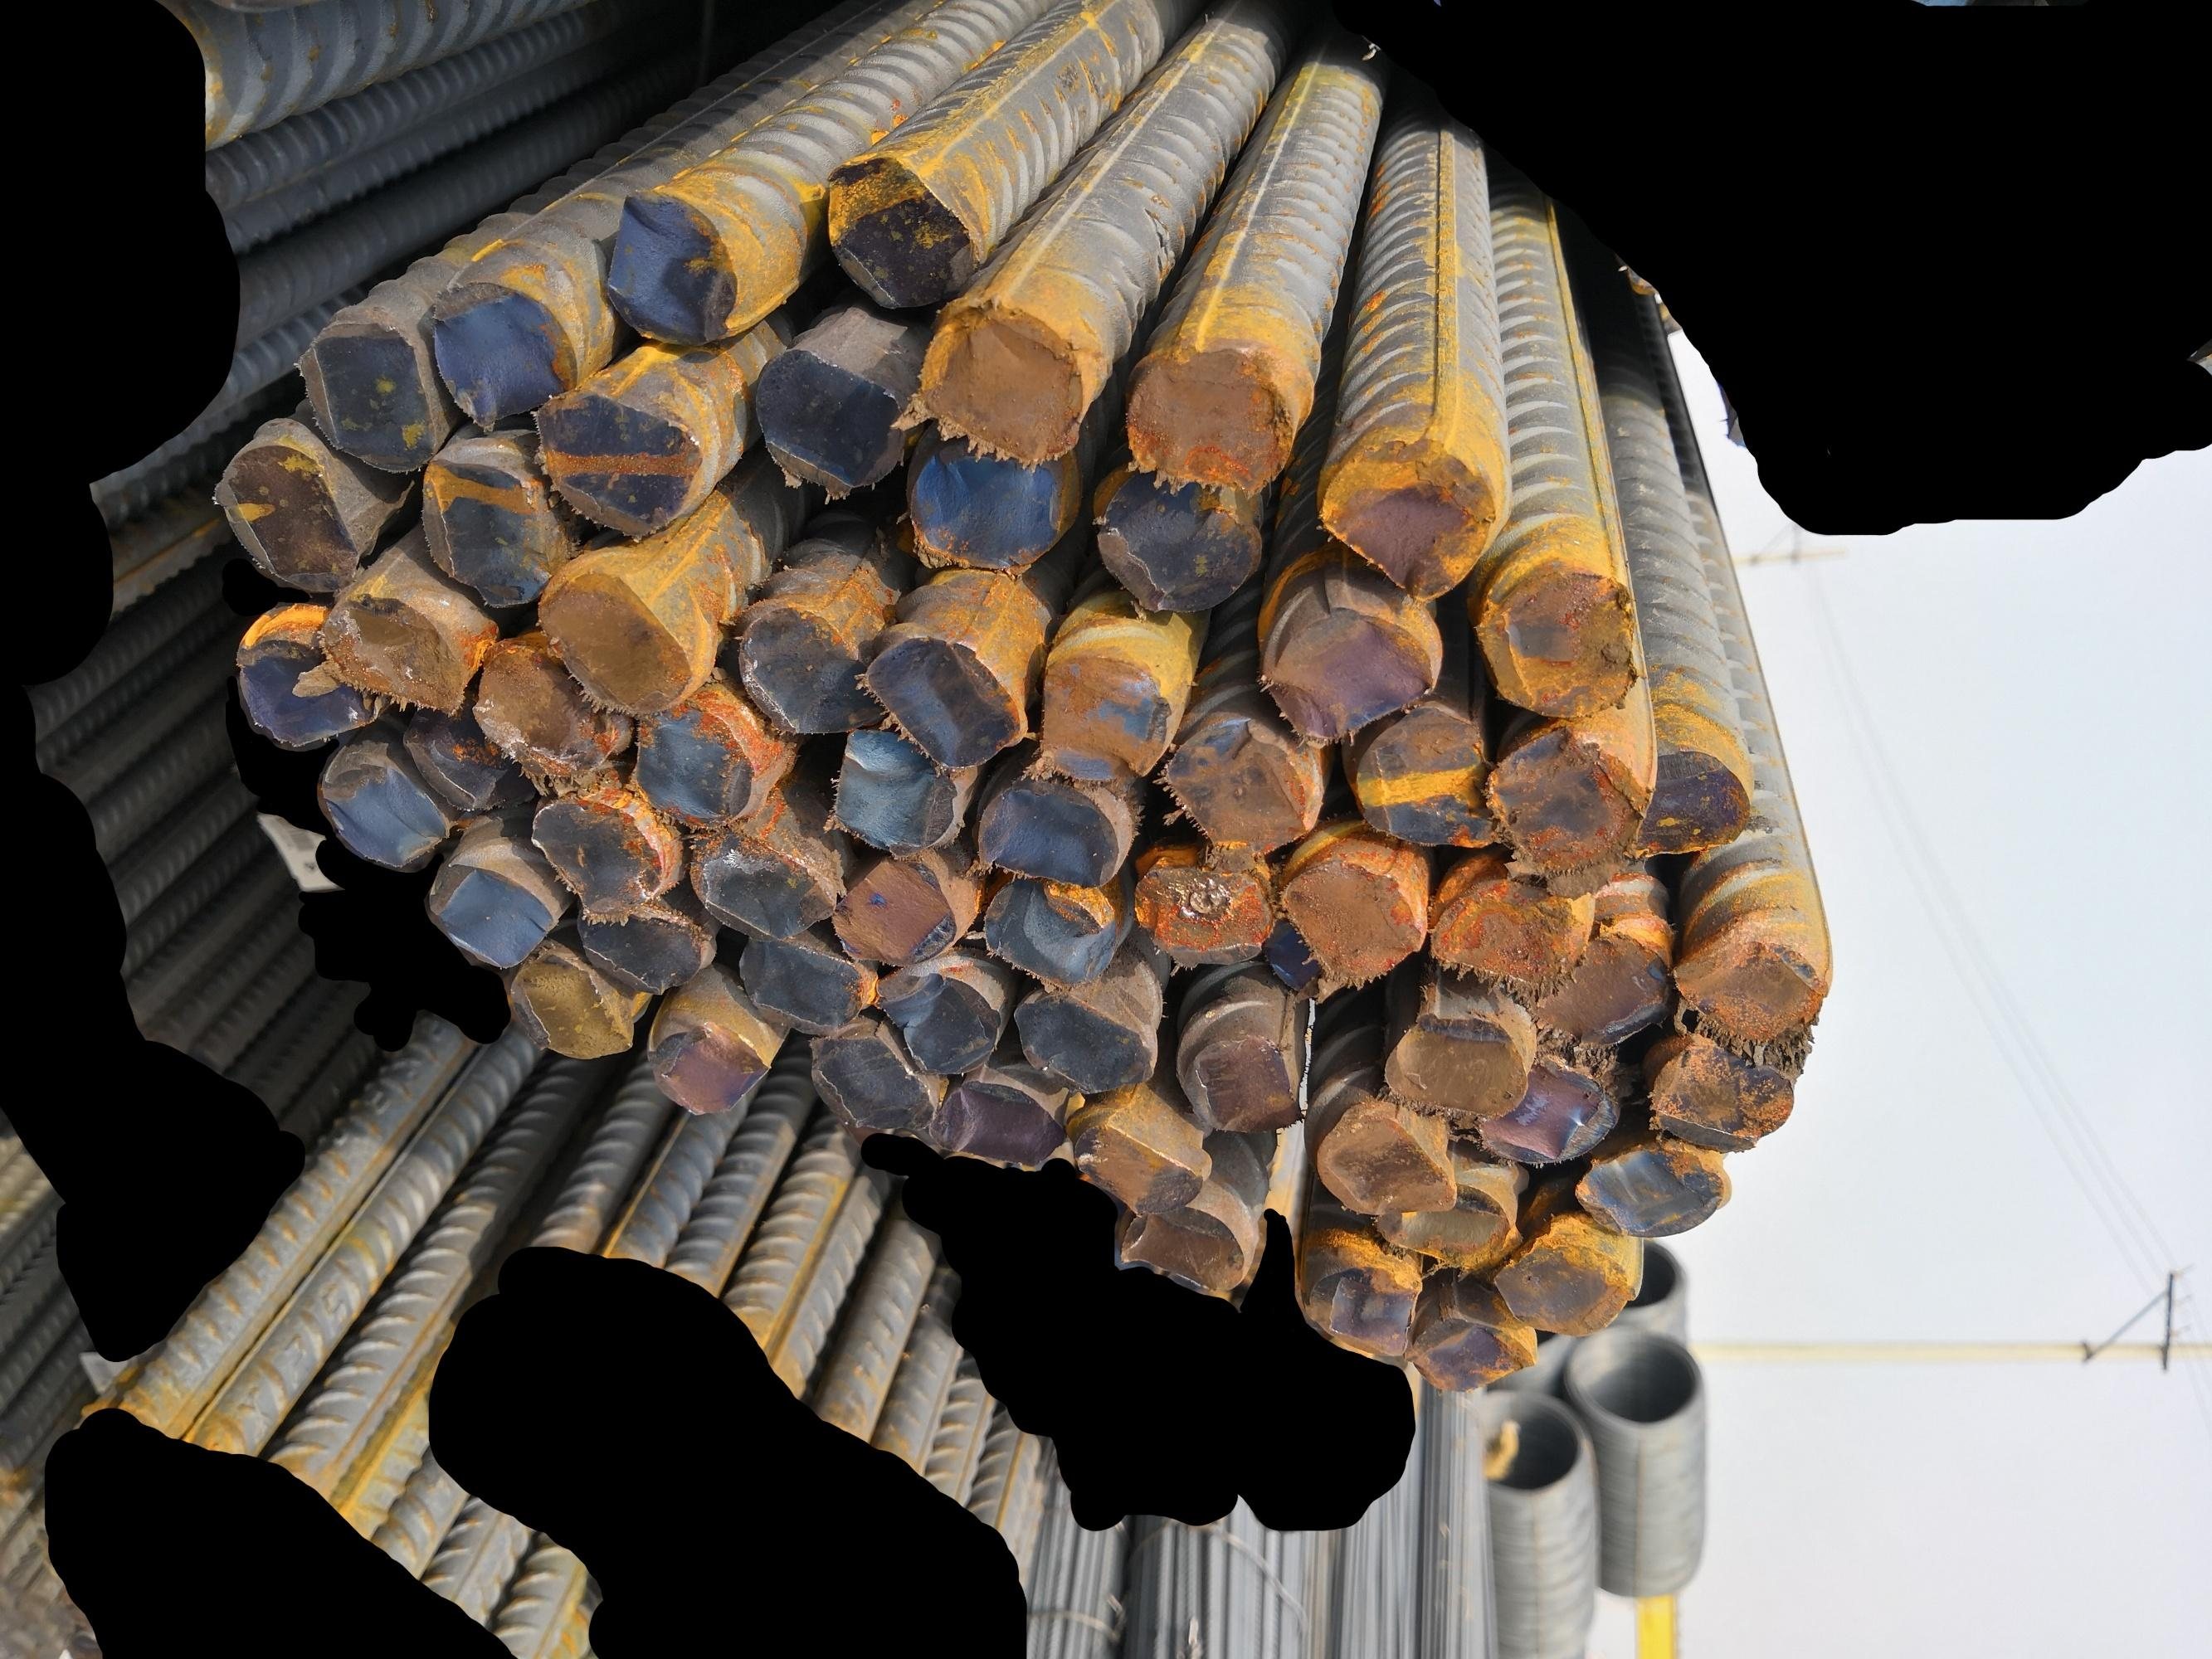bar: (1313, 434, 1496, 601), (1468, 551, 1640, 721), (910, 298, 1084, 465), (532, 556, 699, 725), (525, 387, 708, 540), (1091, 467, 1267, 615), (1117, 342, 1293, 490), (816, 152, 980, 310), (1260, 596, 1442, 739), (852, 624, 1027, 772), (1483, 721, 1642, 882), (593, 186, 746, 350), (464, 629, 626, 781), (753, 340, 905, 500), (429, 275, 587, 427), (903, 434, 1072, 575), (411, 448, 554, 613), (209, 437, 361, 592), (1349, 695, 1501, 850), (1159, 718, 1327, 857), (286, 321, 439, 471), (729, 596, 887, 734), (1672, 918, 1830, 1053), (1372, 1002, 1536, 1127), (228, 615, 383, 748), (485, 934, 640, 1065), (680, 812, 838, 939), (307, 737, 453, 871), (1529, 927, 1682, 1054), (969, 769, 1124, 894), (1278, 852, 1428, 981), (317, 591, 469, 718), (1429, 875, 1590, 995), (826, 721, 964, 861), (629, 697, 763, 836), (521, 789, 668, 917), (1131, 847, 1279, 972), (390, 697, 544, 817), (1469, 1051, 1623, 1168), (1034, 648, 1171, 777), (1642, 1046, 1802, 1155), (1487, 1227, 1649, 1335), (420, 849, 560, 974), (821, 850, 964, 972), (1567, 1134, 1733, 1239), (1006, 983, 1156, 1096), (1311, 1103, 1459, 1215), (978, 877, 1121, 990), (1623, 746, 1754, 870), (802, 1021, 934, 1141), (1067, 1107, 1211, 1216), (732, 932, 880, 1037), (870, 962, 1002, 1079), (1178, 1019, 1304, 1140), (1110, 1190, 1250, 1297), (1400, 1300, 1543, 1403), (643, 1007, 776, 1117), (1365, 1175, 1518, 1267), (931, 1066, 1069, 1169), (570, 899, 709, 999), (1302, 1251, 1422, 1363)
